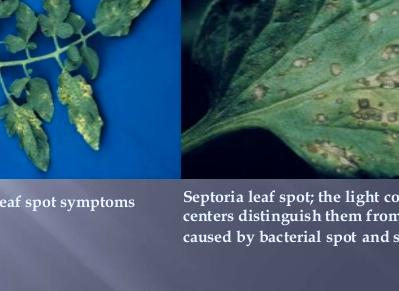Tomato Septoria leaf spot: (195, 0, 399, 175), (0, 99, 72, 173), (49, 67, 107, 150), (90, 0, 168, 49), (34, 0, 78, 48)
